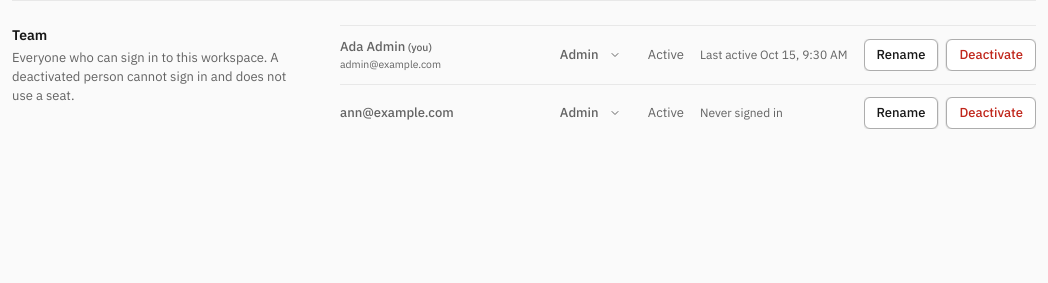
deactivating yourself warns that you will be signed out
This screenshot has width=1048, height=283.
Click the button with aria-label "Deactivate Ada Admin".
click(991, 55)  # box [946,39,1036,71]
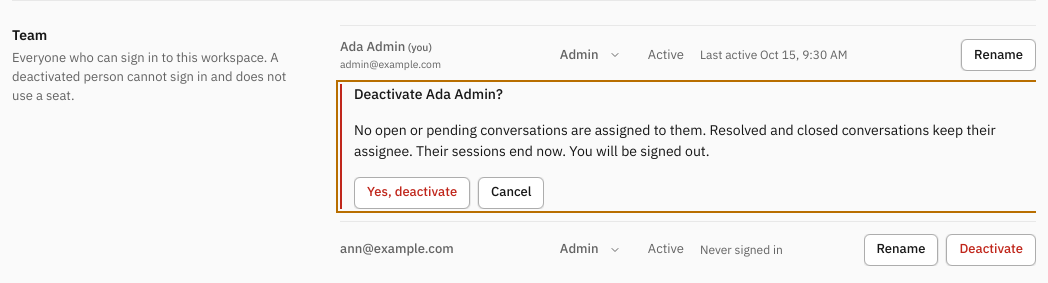
Now the element "Deactivate Ada Admin?" shows "You will be signed out", box [566,142,710,160]
